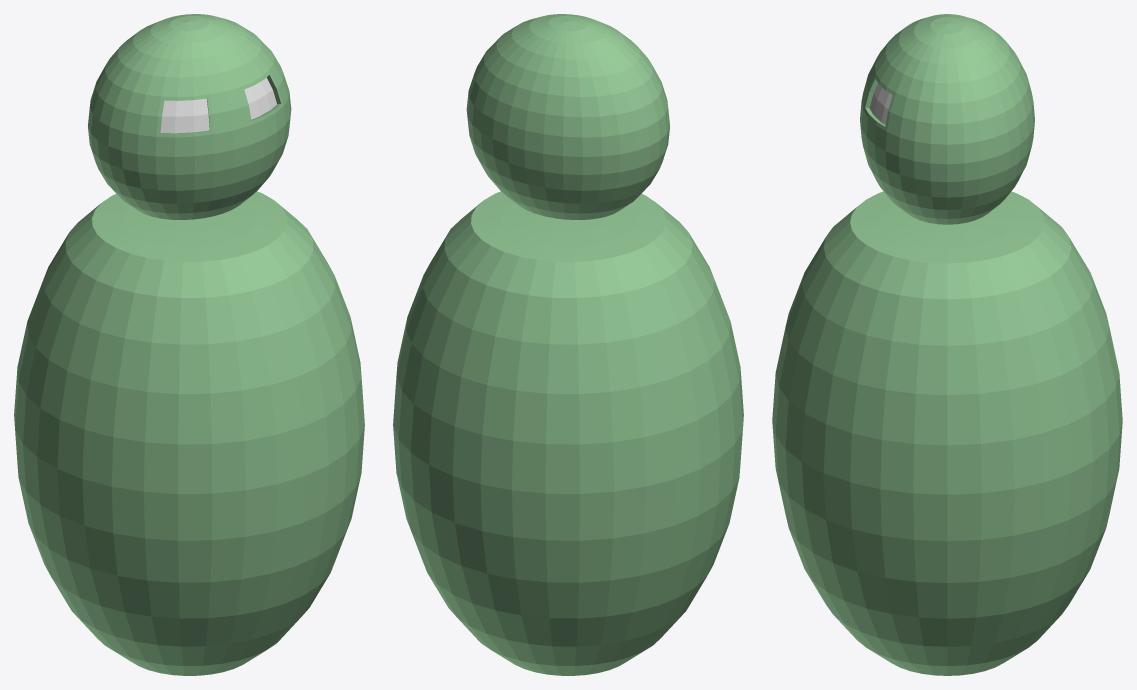
Rendered from robot.fbx.
3 views of the same model, side by side, from view 1: azimuth 30°, elevation 25°; view 2: azimuth 150°, elevation 25°; view 3: azimuth 270°, elevation 25° (orthographic).
Visible parts, largest first — view 1: Robot_1; view 2: Robot_1; view 3: Robot_1.
Part boxes in pixels (<box>): Robot_1: <box>14,14,364,675</box>; Robot_1: <box>393,14,743,675</box>; Robot_1: <box>772,14,1122,675</box>.
Size of the model in its own units: 200 by 393 by 200.
